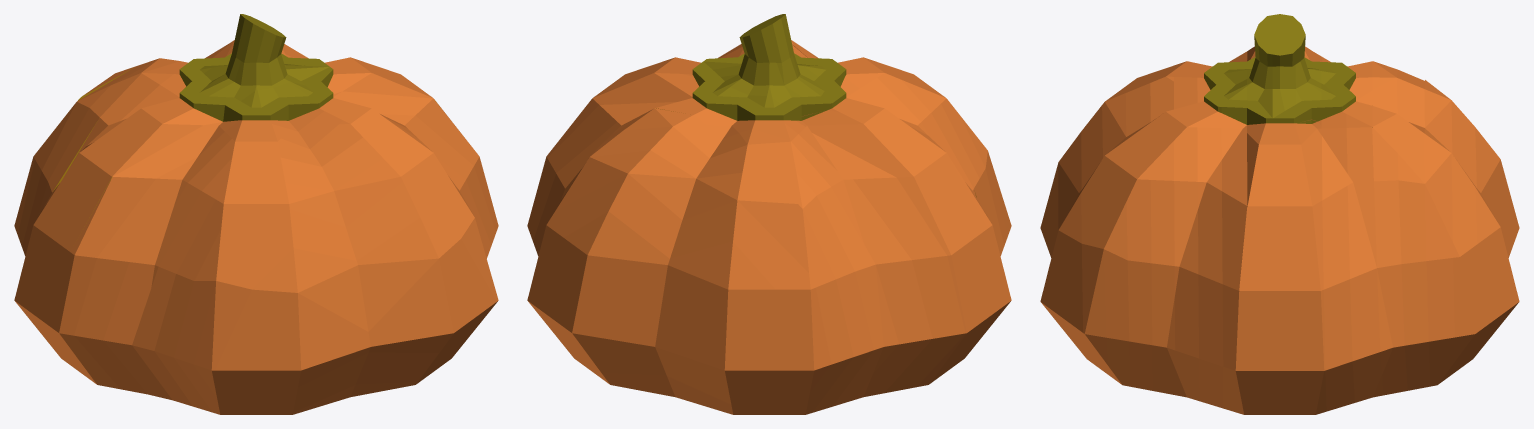
File: Pumpkin.fbx
3 views of the same model, side by side, from view 1: azimuth 30°, elevation 25°; view 2: azimuth 150°, elevation 25°; view 3: azimuth 270°, elevation 25° (orthographic).
Visible parts, largest first — view 1: polySurface262; view 2: polySurface262; view 3: polySurface262.
Boxes of the visible parts, x1=… form: polySurface262: x1=14, y1=14, x2=498, y2=414; polySurface262: x1=527, y1=14, x2=1011, y2=414; polySurface262: x1=1040, y1=14, x2=1519, y2=414.
Size of the model in its own units: 697 by 538 by 665.
